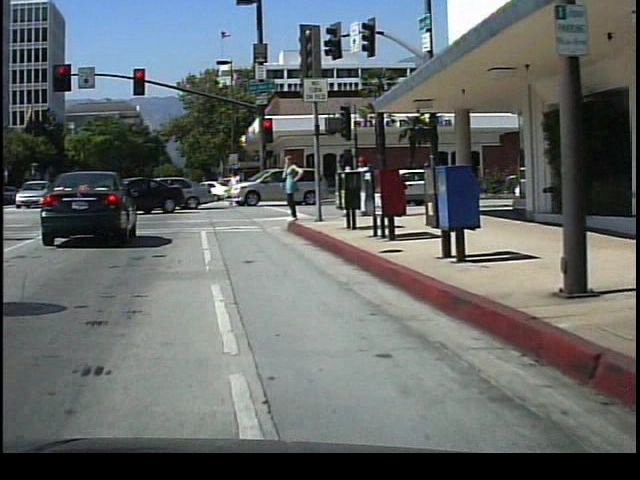person: (282, 150, 310, 223), (356, 151, 380, 218), (339, 151, 361, 216)
